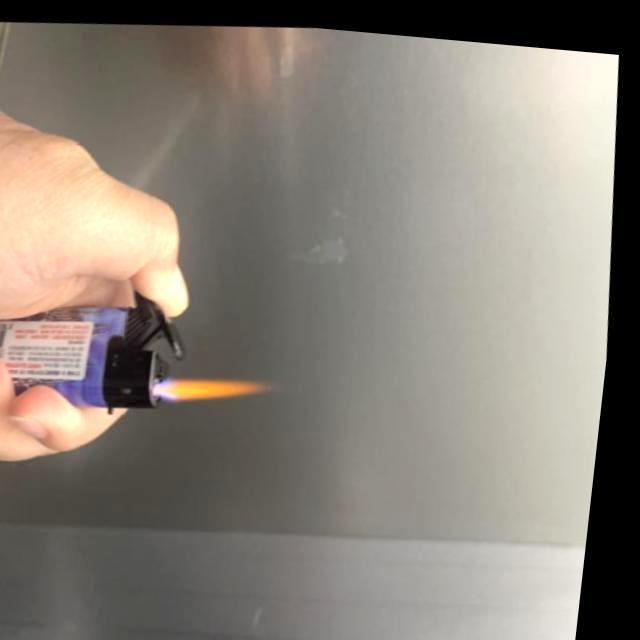fire: (164, 364, 274, 404)
